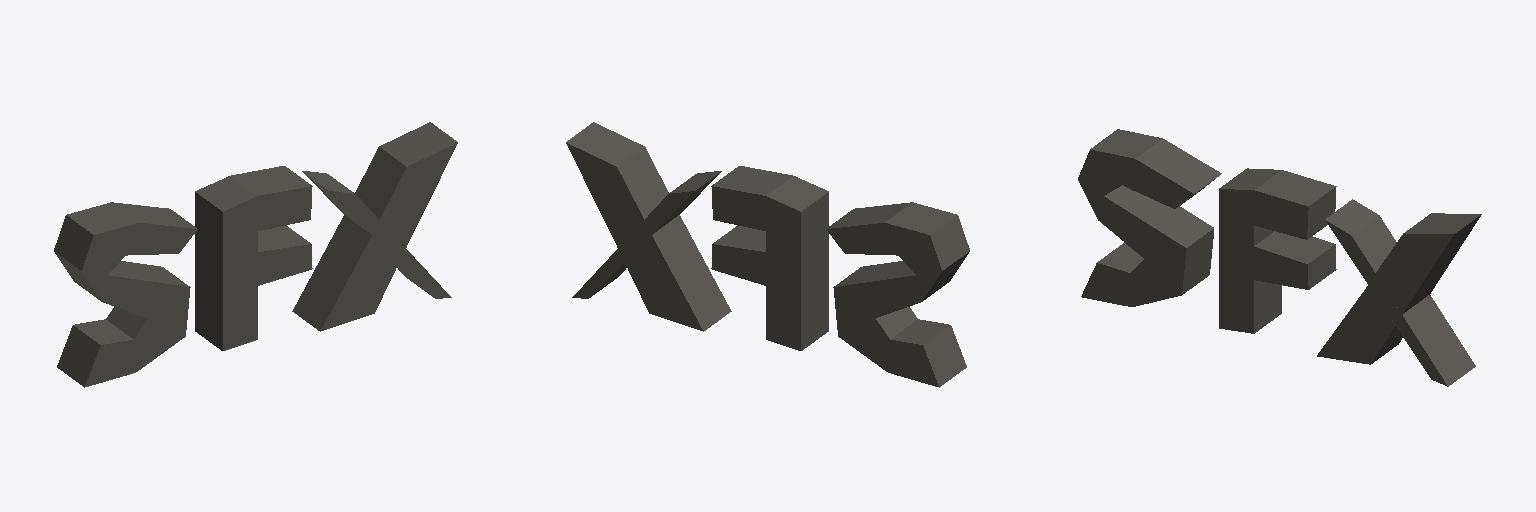
3 views of the same model, side by side, from view 1: azimuth 30°, elevation 25°; view 2: azimuth 150°, elevation 25°; view 3: azimuth 330°, elevation 25° (orthographic).
Visible parts, largest first — view 1: rdmobj00; view 2: rdmobj00; view 3: rdmobj00.
Part boxes in pixels (bbox=[...]): rdmobj00: bbox=[54, 122, 457, 387]; rdmobj00: bbox=[566, 122, 969, 387]; rdmobj00: bbox=[1078, 129, 1481, 386].
Bounding box in the file's own units: 49.1 × 19.4 × 6.3.
1 materials, 1 textured.